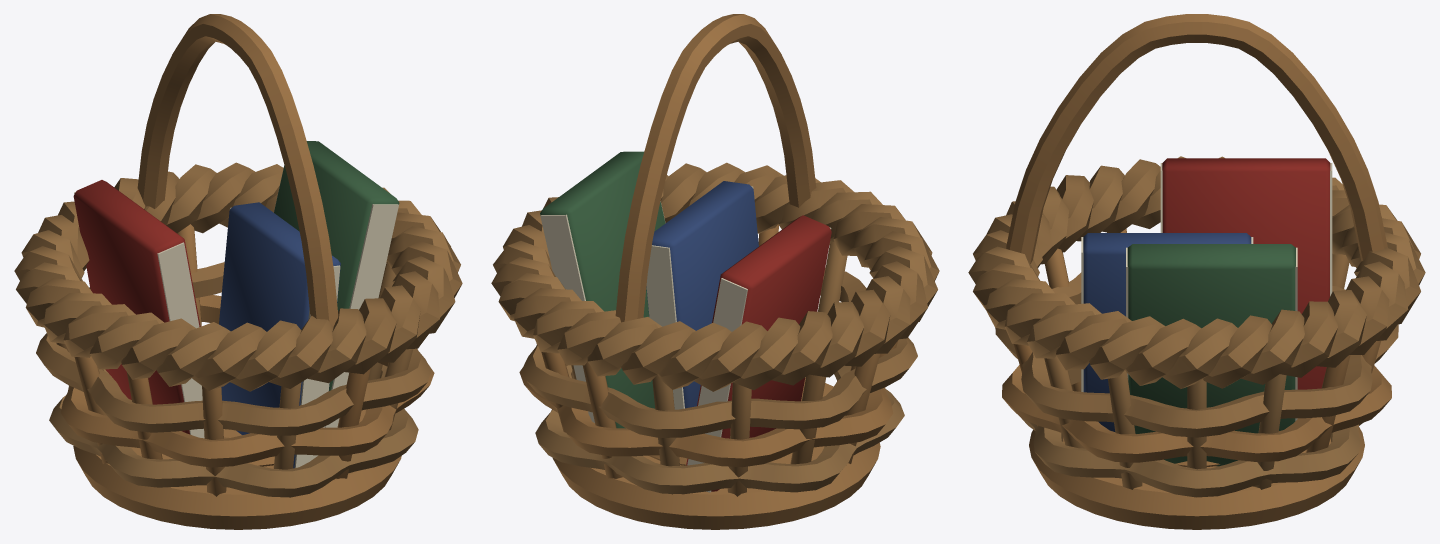
Rendered from library_basket_3.glb.
3 renders of one model, left to right at view 1: azimuth 30°, elevation 25°; view 2: azimuth 150°, elevation 25°; view 3: azimuth 270°, elevation 25°, orthographic.
Visible parts, largest first — view 1: Sammel Stoff, Sammel Lack; view 2: Sammel Stoff, Sammel Lack; view 3: Sammel Stoff, Sammel Lack.
Boxes of the visible parts, x1,y1,x2,y2 form: Sammel Stoff: [14, 14, 462, 529]; Sammel Lack: [74, 167, 398, 467]; Sammel Stoff: [491, 14, 939, 529]; Sammel Lack: [540, 186, 831, 492]; Sammel Stoff: [968, 14, 1425, 529]; Sammel Lack: [1081, 163, 1332, 420].
Bounding box in the file's own units: 0.185 × 0.1998 × 0.185.
